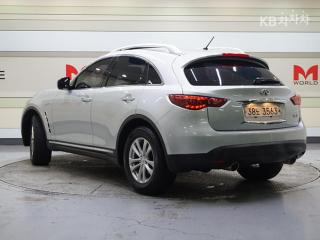3: (272, 106, 279, 116), (247, 107, 251, 116), (262, 107, 266, 116)
5: (266, 106, 270, 115)
6: (270, 108, 274, 116)
8: (251, 107, 256, 116)
plate: (237, 97, 289, 127)
노: (256, 107, 260, 116)
